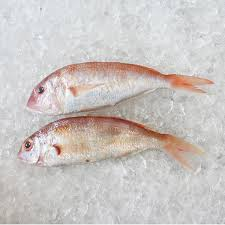Ikan Kerisi: (21, 47, 215, 122), (15, 111, 213, 177)
